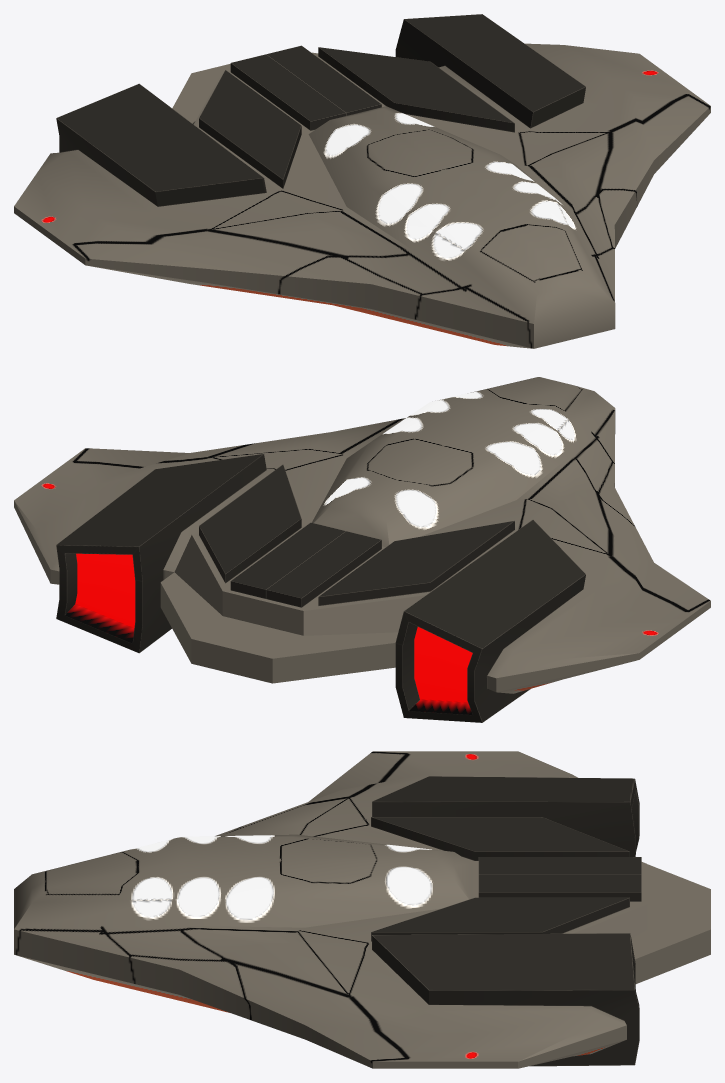
The model's file is Delta I.fbx.
3 views of the same model, one above another, from view 1: azimuth 30°, elevation 25°; view 2: azimuth 150°, elevation 25°; view 3: azimuth 270°, elevation 25° (orthographic).
Visible parts, largest first — view 1: Cube; view 2: Cube; view 3: Cube.
Boxes of the visible parts, left/top/right/bottom form: Cube: left=14, top=14, right=710, bottom=348; Cube: left=14, top=377, right=710, bottom=722; Cube: left=14, top=751, right=710, bottom=1068.
Size of the model in its own units: 514 by 90.35 by 488.
Materials: 1 (1 with a texture image).
